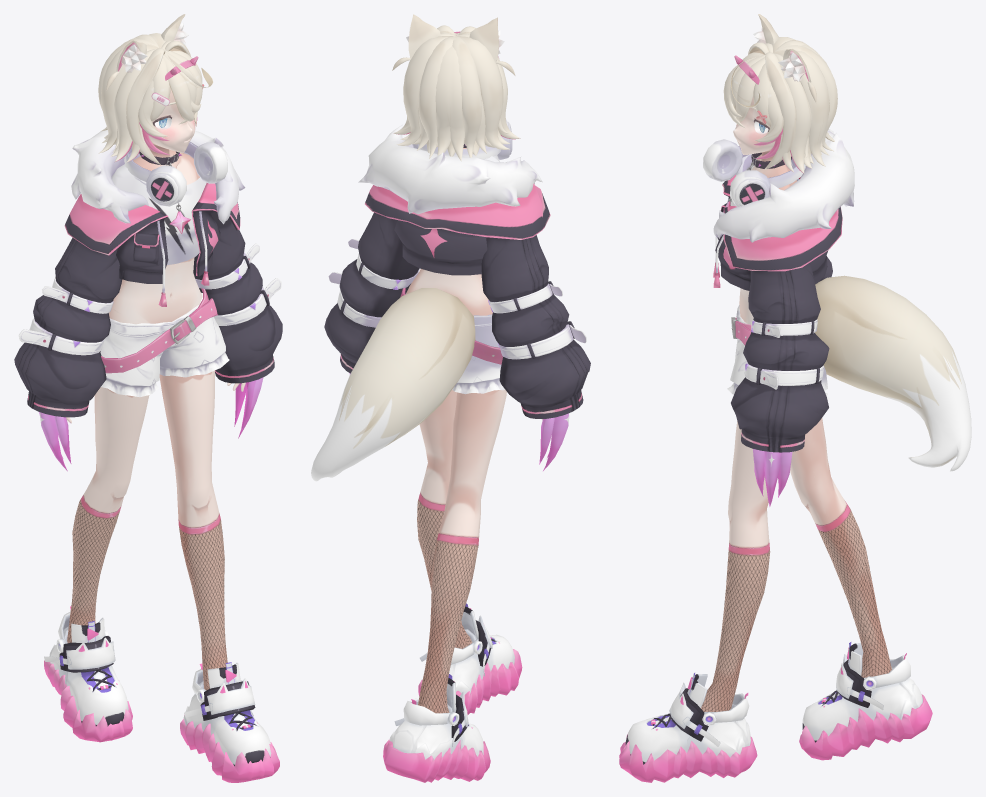
File: mococo_abyssgard.glb
The picture shows the model from 3 angles, left to right: view 1: azimuth 30°, elevation 25°; view 2: azimuth 150°, elevation 25°; view 3: azimuth 270°, elevation 25°; orthographic projection. The views are drawn at different scales.
Parts seen in each view (by area): view 1: pCube31; view 2: pCube31; view 3: pCube31.
Boxes of the visible parts, bbox=[...] form: pCube31: bbox=[14, 14, 282, 782]; pCube31: bbox=[311, 14, 590, 782]; pCube31: bbox=[619, 14, 971, 782].
Size of the model in its own units: 0.0465 by 0.1239 by 0.0539.
Materials: 7 (7 with a texture image).
